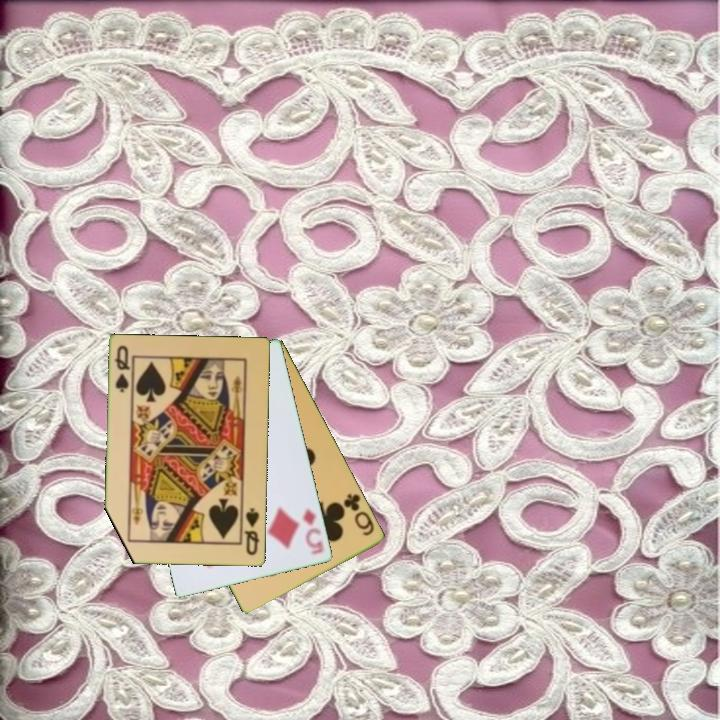5d: (299, 505, 327, 557)
6c: (340, 490, 378, 539)
Qs: (112, 342, 133, 396), (241, 505, 262, 558)
